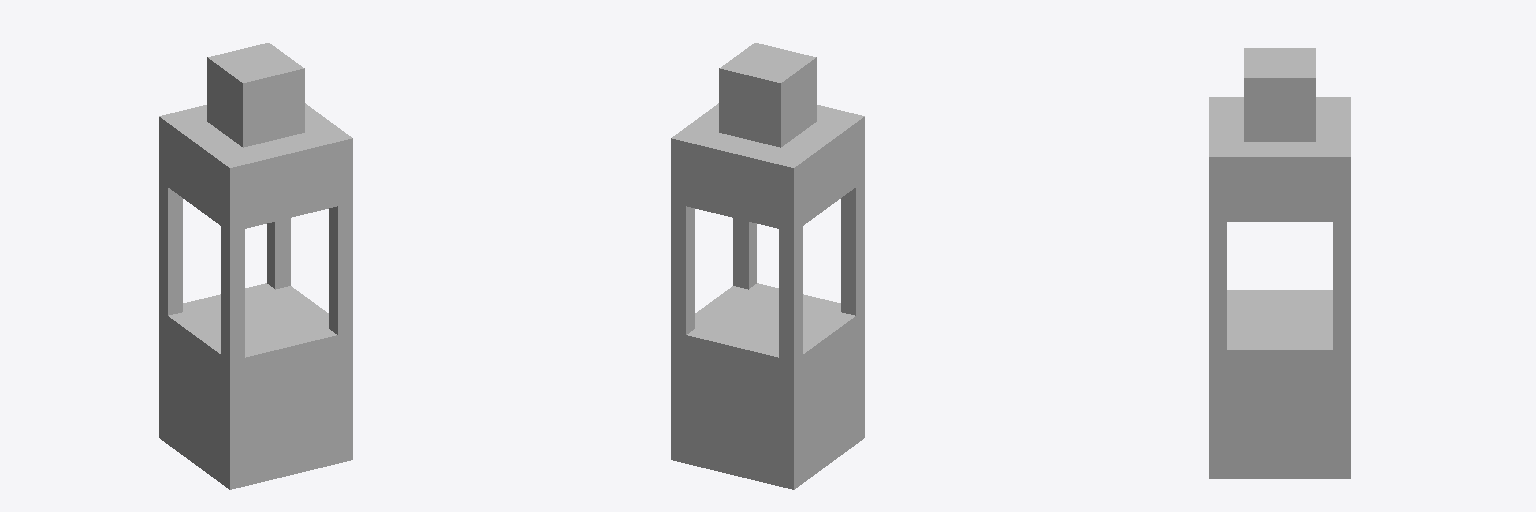
Rendered from press.obj.
The picture shows the model from 3 angles: view 1: azimuth 30°, elevation 25°; view 2: azimuth 150°, elevation 25°; view 3: azimuth 270°, elevation 25°; orthographic projection.
Visible parts, largest first — view 1: base, top1, top2, pole2, pole3, pole1, pole4; view 2: base, top1, top2, pole1, pole4, pole2, pole3; view 3: base, top1, top2, pole4, pole3.
Part boxes in pixels (bbox=[...]): base: bbox=[159, 283, 352, 489]; top1: bbox=[159, 103, 352, 232]; top2: bbox=[207, 43, 304, 147]; pole2: bbox=[221, 226, 244, 360]; pole3: bbox=[329, 203, 352, 334]; pole1: bbox=[159, 181, 182, 315]; pole4: bbox=[267, 218, 290, 289]; base: bbox=[671, 283, 864, 489]; top1: bbox=[671, 103, 864, 232]; top2: bbox=[719, 43, 816, 147]; pole1: bbox=[779, 226, 802, 360]; pole4: bbox=[671, 203, 694, 334]; pole2: bbox=[841, 181, 864, 315]; pole3: bbox=[733, 218, 756, 289]; base: bbox=[1209, 290, 1350, 478]; top1: bbox=[1209, 97, 1350, 221]; top2: bbox=[1244, 48, 1315, 141]; pole4: bbox=[1333, 222, 1350, 349]; pole3: bbox=[1209, 222, 1226, 349].
Size of the model in its own units: 1 by 3 by 1.